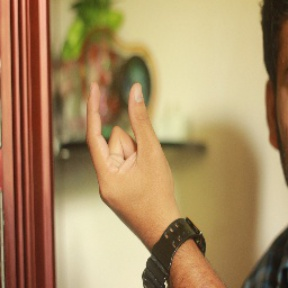U: (78, 77, 175, 206)
